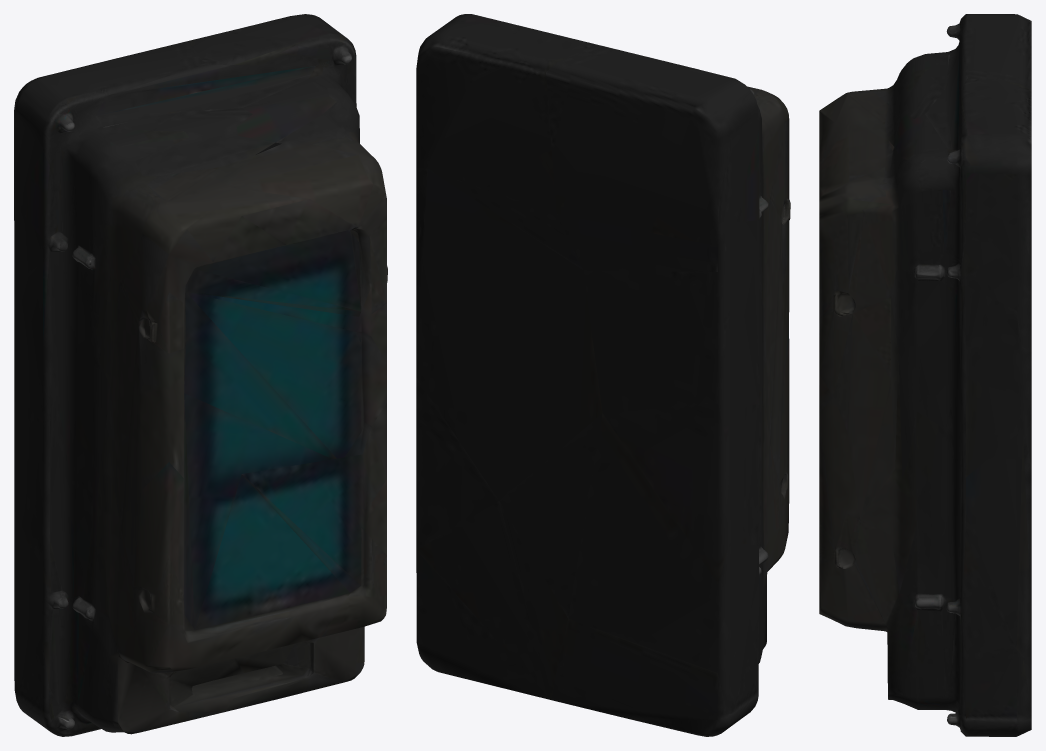
The model's file is wall_terminal.glb.
The picture shows the model from 3 angles, left to right: view 1: azimuth 30°, elevation 25°; view 2: azimuth 150°, elevation 25°; view 3: azimuth 270°, elevation 25°; orthographic projection. The views are drawn at different scales.
Size of the model in its own units: 0.9756 by 1.9 by 0.6094.
Materials: 1 (1 with a texture image).
